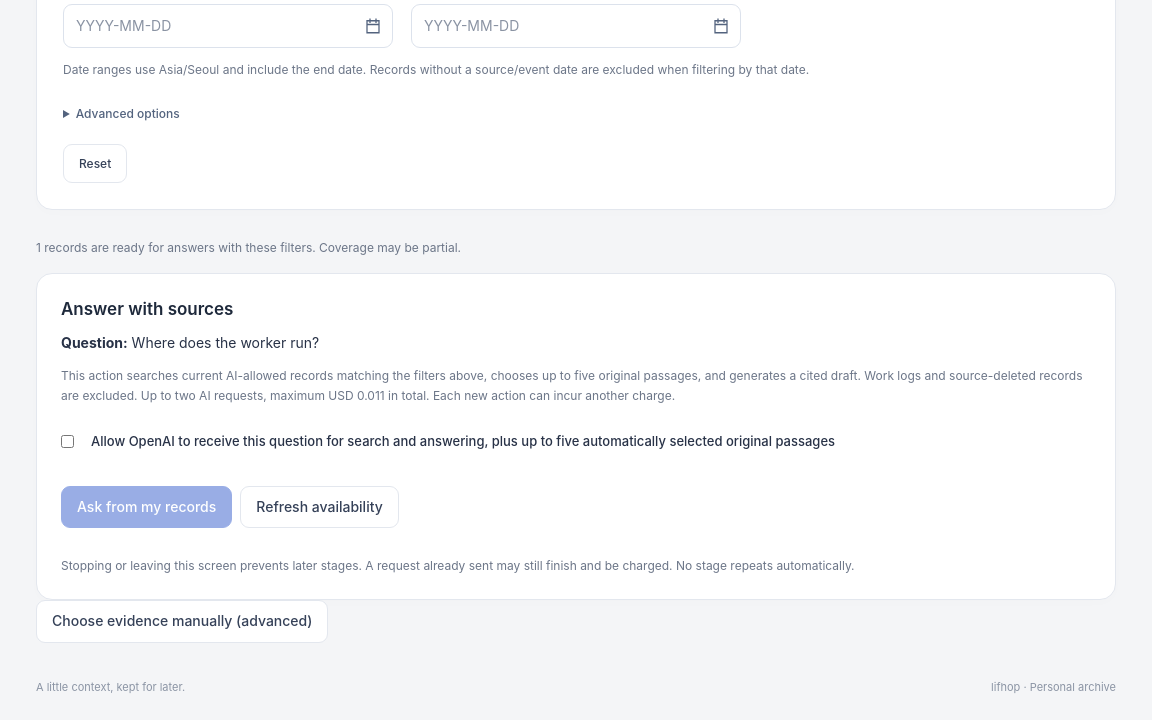
Test: does not retry after a answer failure
(page scrolled)
Expected: the button "Ask from my records" is shown, [61,486,232,528]
Click the checkbox named "Allow OpenAI to receive this question for search and answering, plus up to five automatically selected original passages" at point(68, 441), box [61,433,74,450]
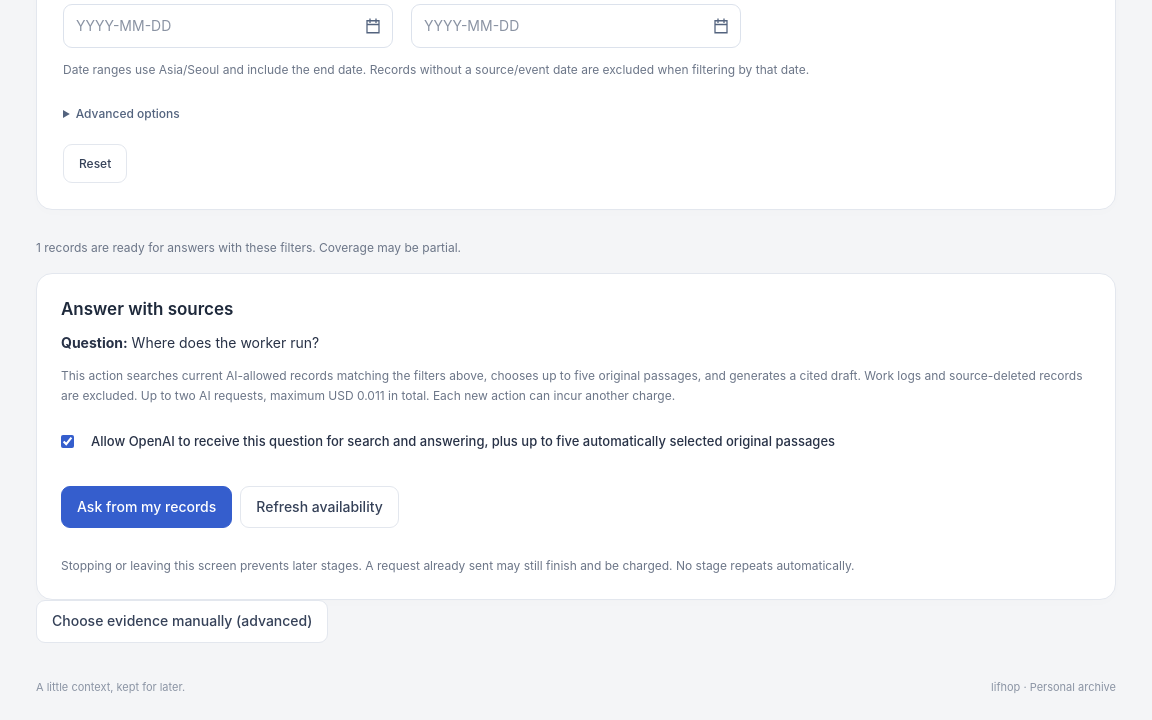
Click the button "Ask from my records" at point(147, 507), box [61,486,232,528]
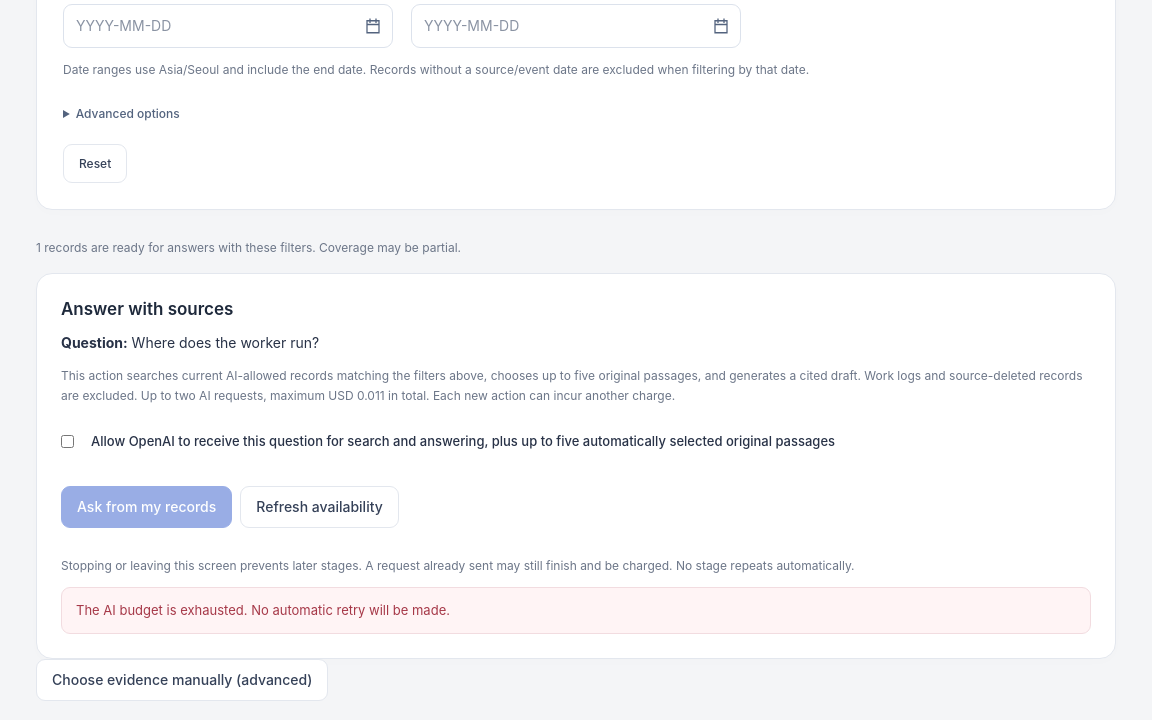
Expected: the checkbox named "Allow OpenAI to receive this question for search and answering, plus up to five automatically selected original passages" is not checked, [61,433,74,450]
Expected: the message "The AI budget is exhausted. No automatic retry will be made." is shown, [61,587,1091,634]
